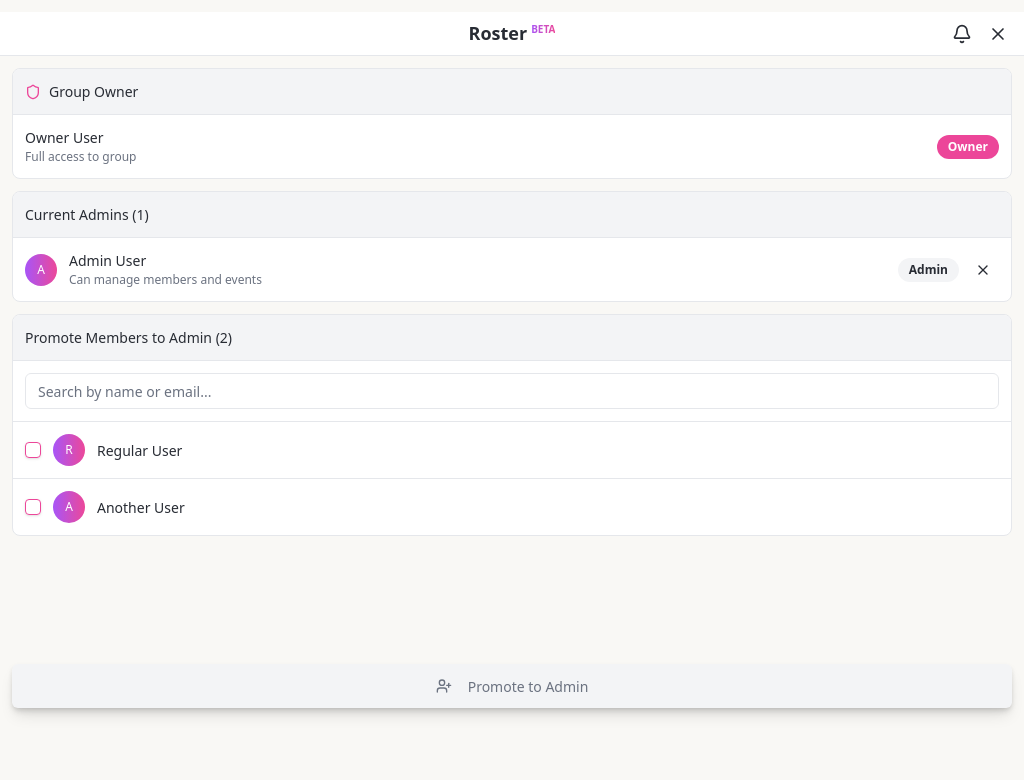
it: ManageRolesPage › authorized owner view › should filter members by search query
The width and height of the screenshot is (1024, 780).
Expected: the text "Regular User" is shown, x1=97 y1=440 x2=182 y2=460
Step 1. Type "Another" into the search field with placeholder "Search by name or email..." → coordinates (512, 391), box x1=25 y1=373 x2=999 y2=409
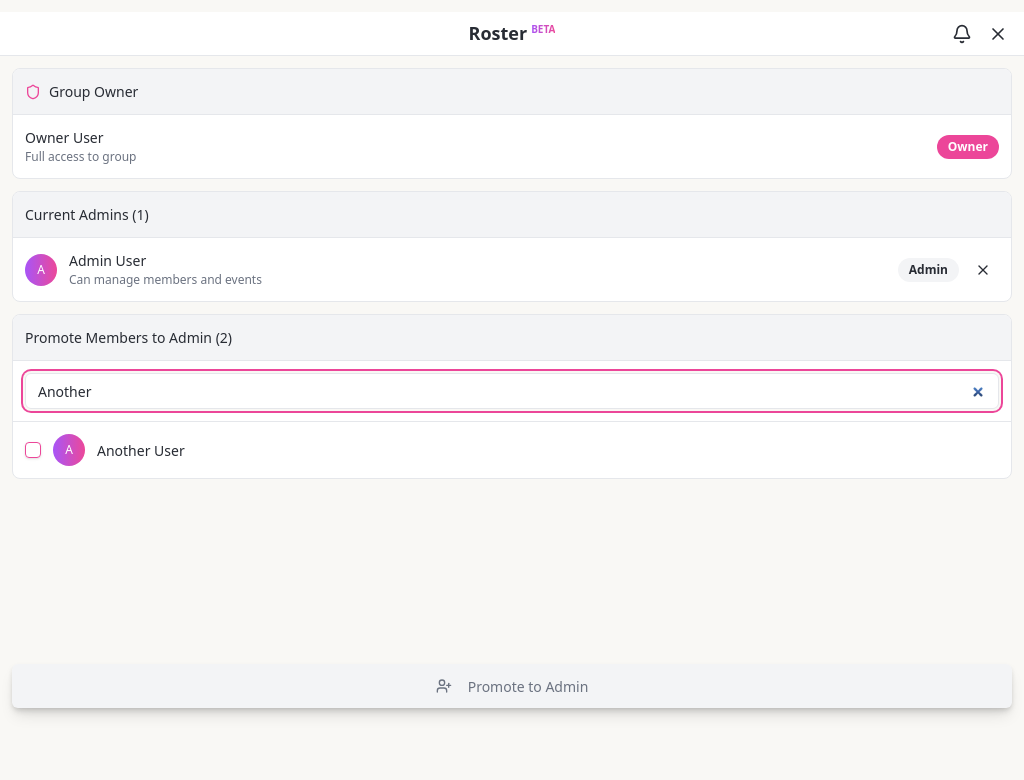
Expected: the text "Another User" is shown, x1=97 y1=440 x2=185 y2=460
Result: the text "Regular User" is gone
